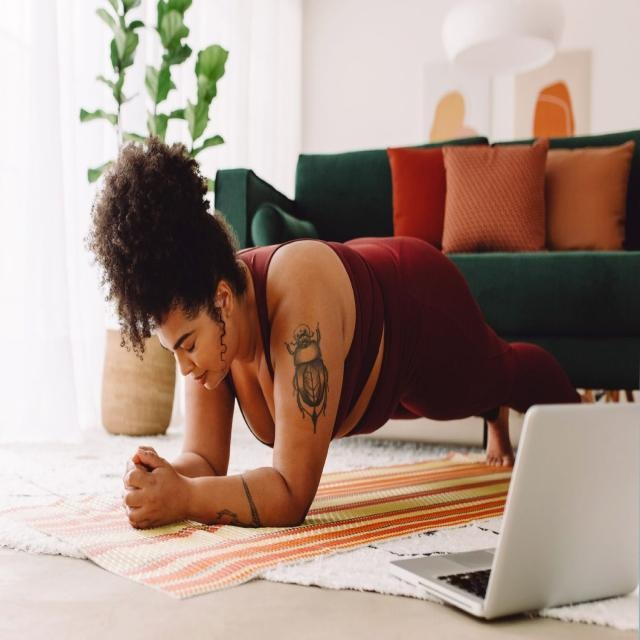plank: (84, 126, 590, 538)
